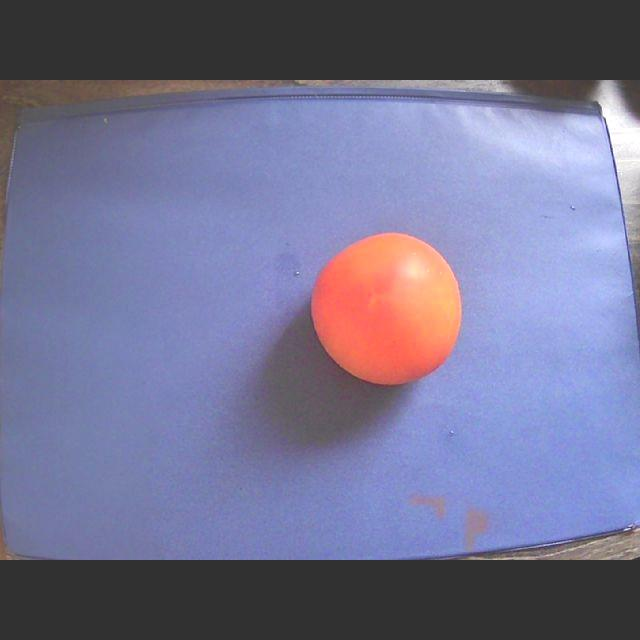tomate: (312, 233, 461, 385)
